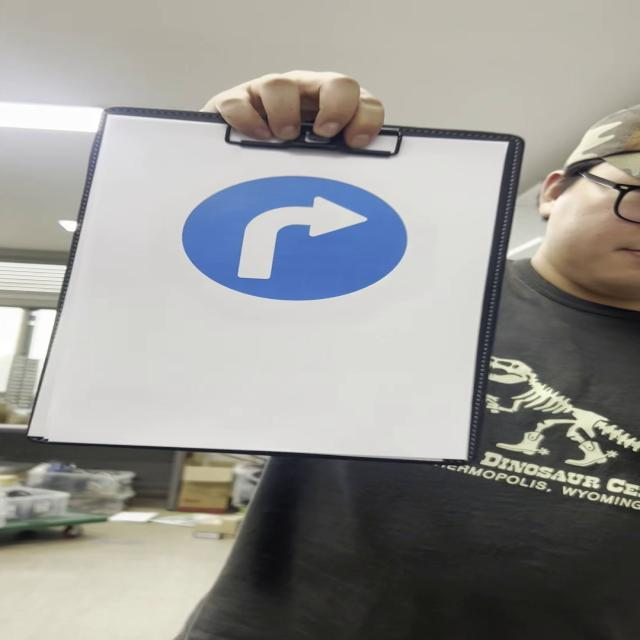right: (188, 175, 409, 305)
